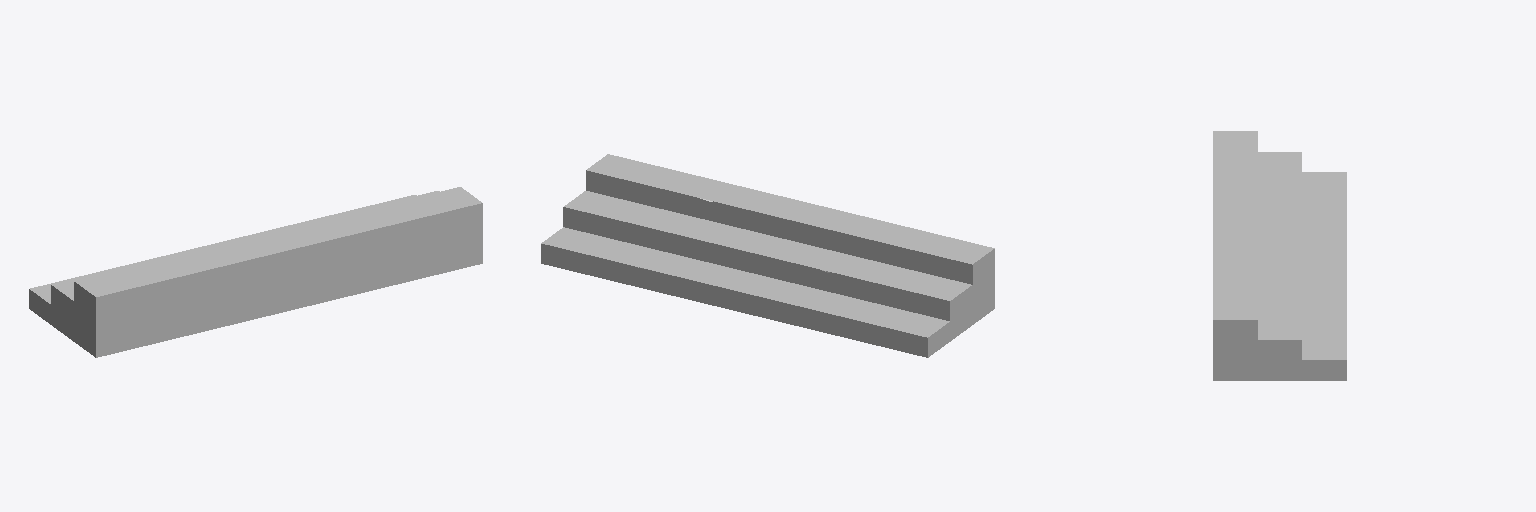
File: step1.obj
3 renders of one model, left to right at view 1: azimuth 30°, elevation 25°; view 2: azimuth 150°, elevation 25°; view 3: azimuth 270°, elevation 25°, orthographic.
Visible parts, largest first — view 1: Cube; view 2: Cube; view 3: Cube.
Part boxes in pixels (bbox=[...]): Cube: bbox=[29, 187, 482, 357]; Cube: bbox=[541, 154, 994, 357]; Cube: bbox=[1213, 131, 1346, 380].
Size of the model in its own units: 2 by 0.3 by 0.6.